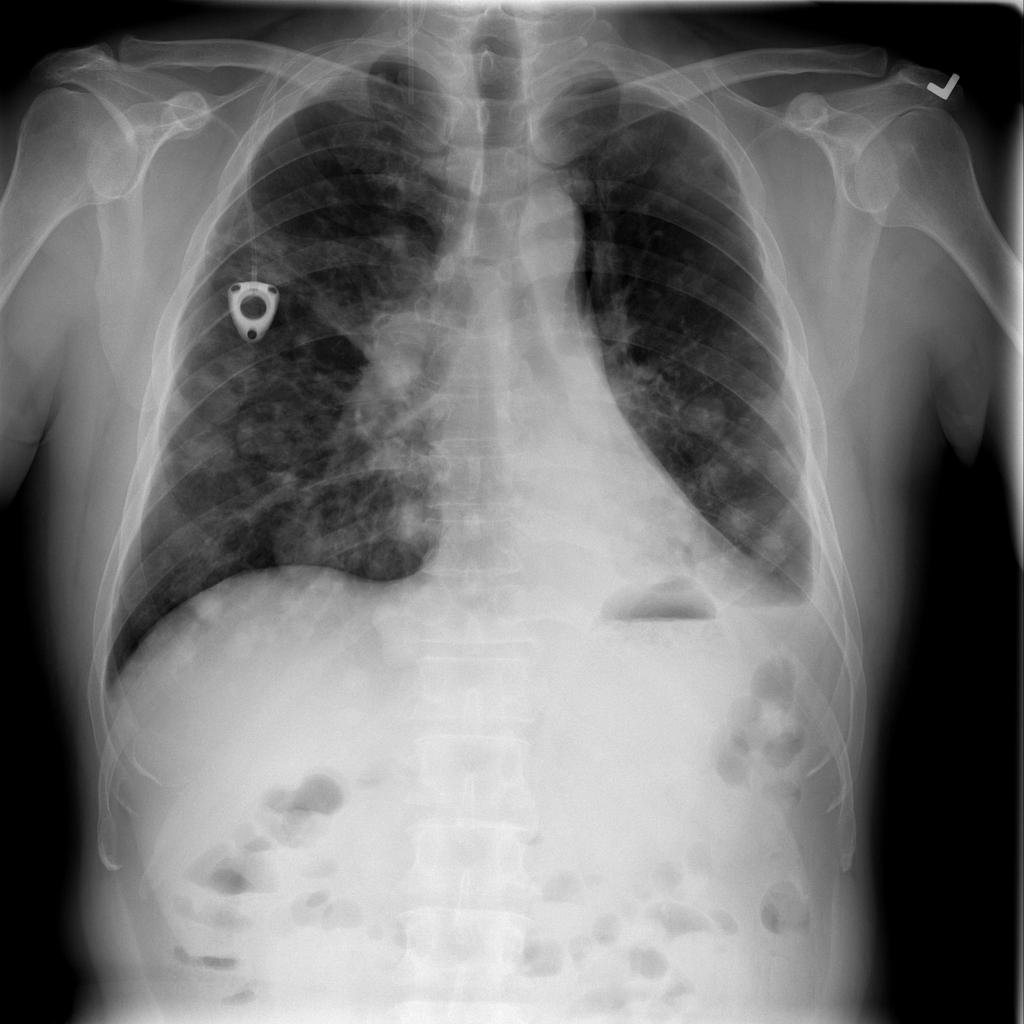nodule: (364, 592, 439, 669), (161, 419, 243, 486), (206, 598, 274, 670), (183, 358, 261, 420), (174, 567, 245, 635), (671, 382, 738, 454), (689, 450, 745, 499), (760, 437, 811, 489), (718, 500, 773, 546)
